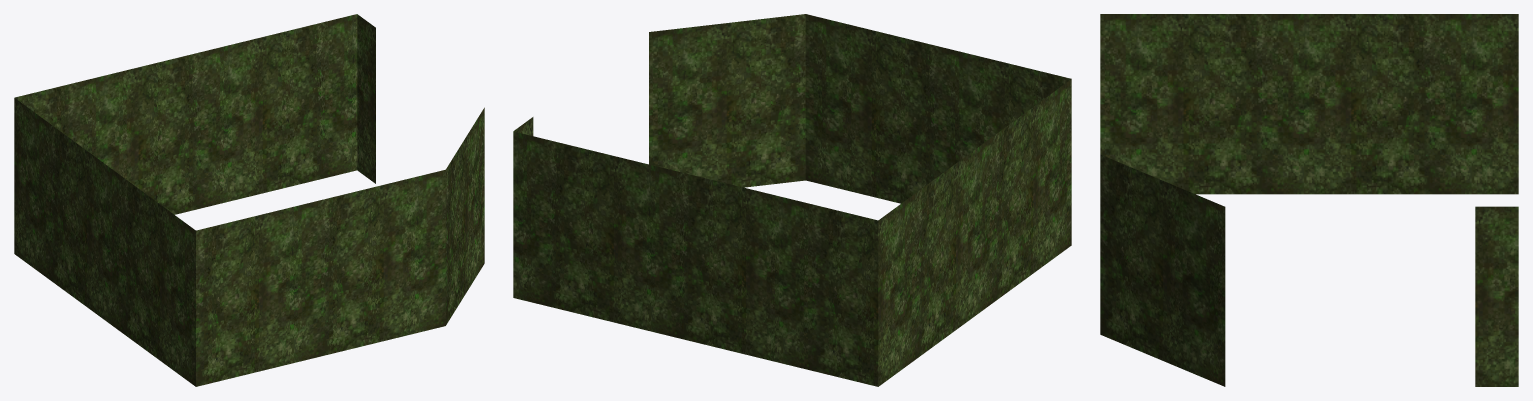
Rendered from OVERHILL_A_01_LINE213.fbx.
3 renders of one model, left to right at view 1: azimuth 30°, elevation 25°; view 2: azimuth 150°, elevation 25°; view 3: azimuth 270°, elevation 25°, orthographic. The views are drawn at different scales.
Visible parts, largest first — view 1: OVERHILL_A_01_LINE213; view 2: OVERHILL_A_01_LINE213; view 3: OVERHILL_A_01_LINE213.
Boxes of the visible parts, box(x1,y1,x2,y2) form: OVERHILL_A_01_LINE213: box(14, 14, 484, 386); OVERHILL_A_01_LINE213: box(513, 14, 1071, 386); OVERHILL_A_01_LINE213: box(1100, 14, 1518, 386).
Size of the model in its own units: 72967 by 31804 by 66957.
Materials: 1 (1 with a texture image).
